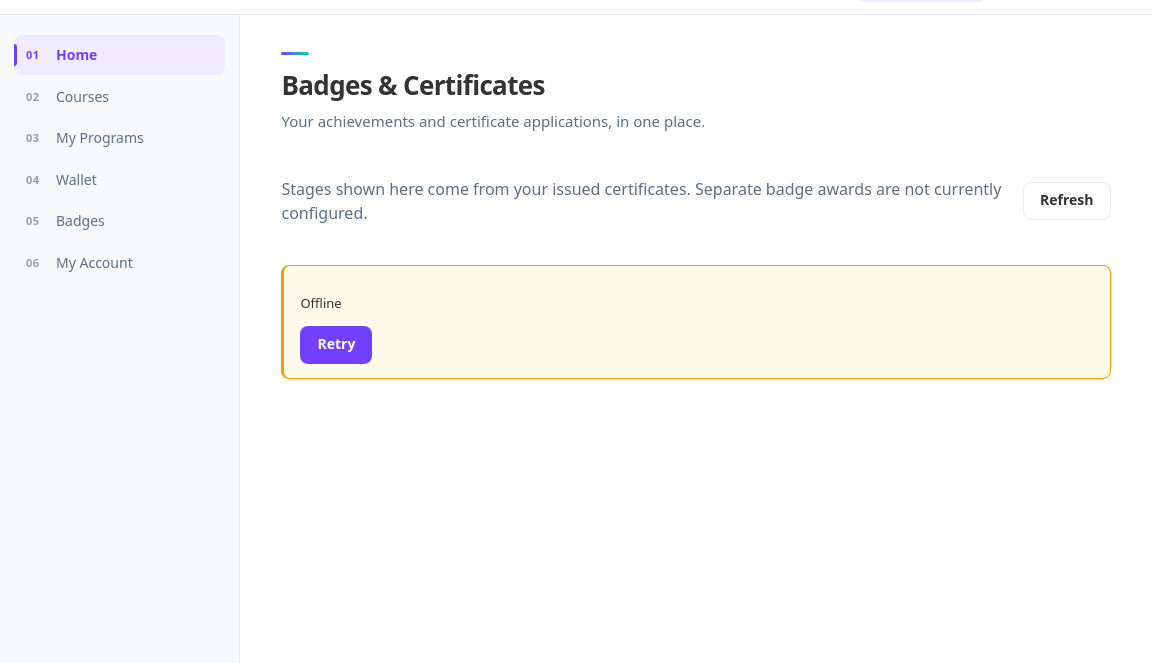
shows a rejected reason and permits retry after a query failure
This screenshot has width=1152, height=663.
expect the message "Offline" is shown: met, box [300, 294, 342, 312]
Click the button "Retry": (336, 345) [300, 326, 372, 364]
(page scrolled)
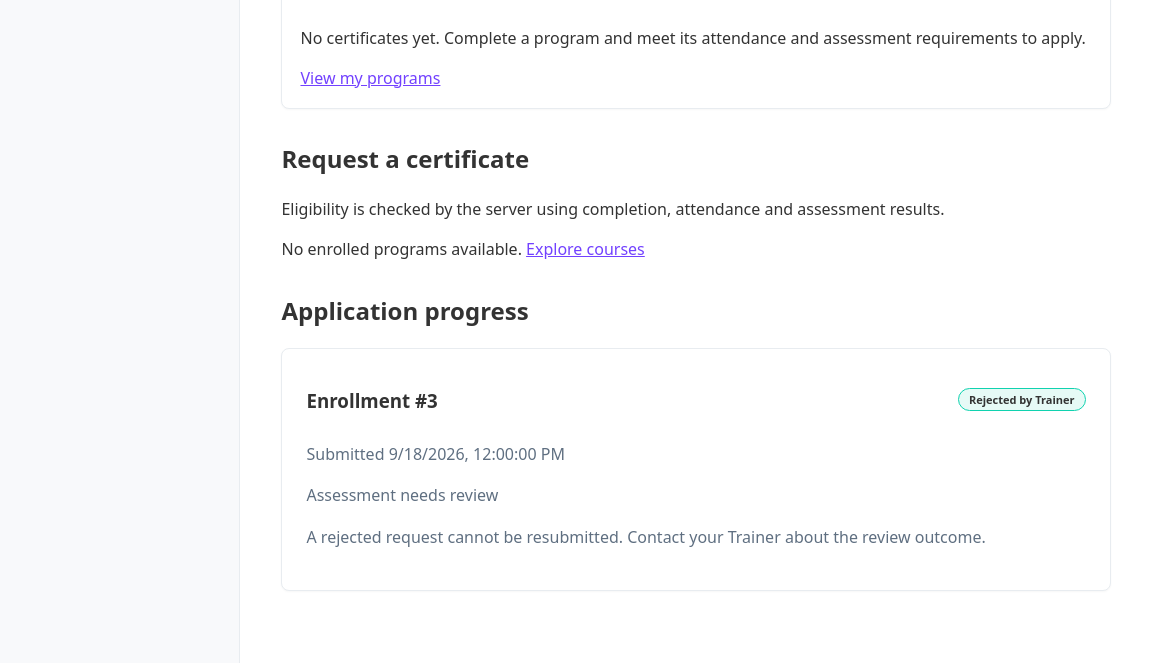
expect the text "Assessment needs review" is shown: met, box [306, 484, 498, 506]
expect the text "A rejected request cannot be resubmitted" is shown: met, box [306, 526, 986, 548]
